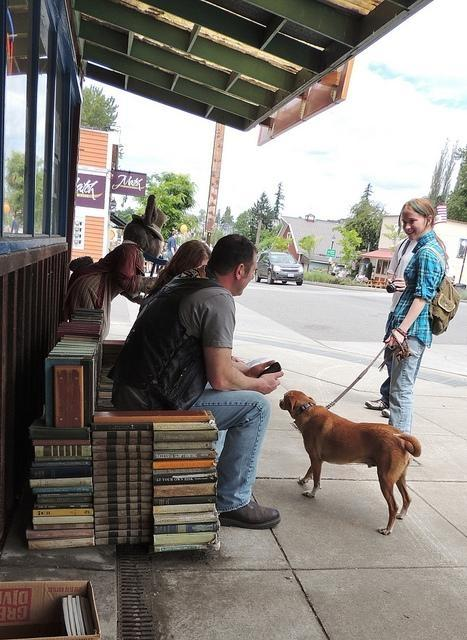car: (255, 251, 305, 285)
